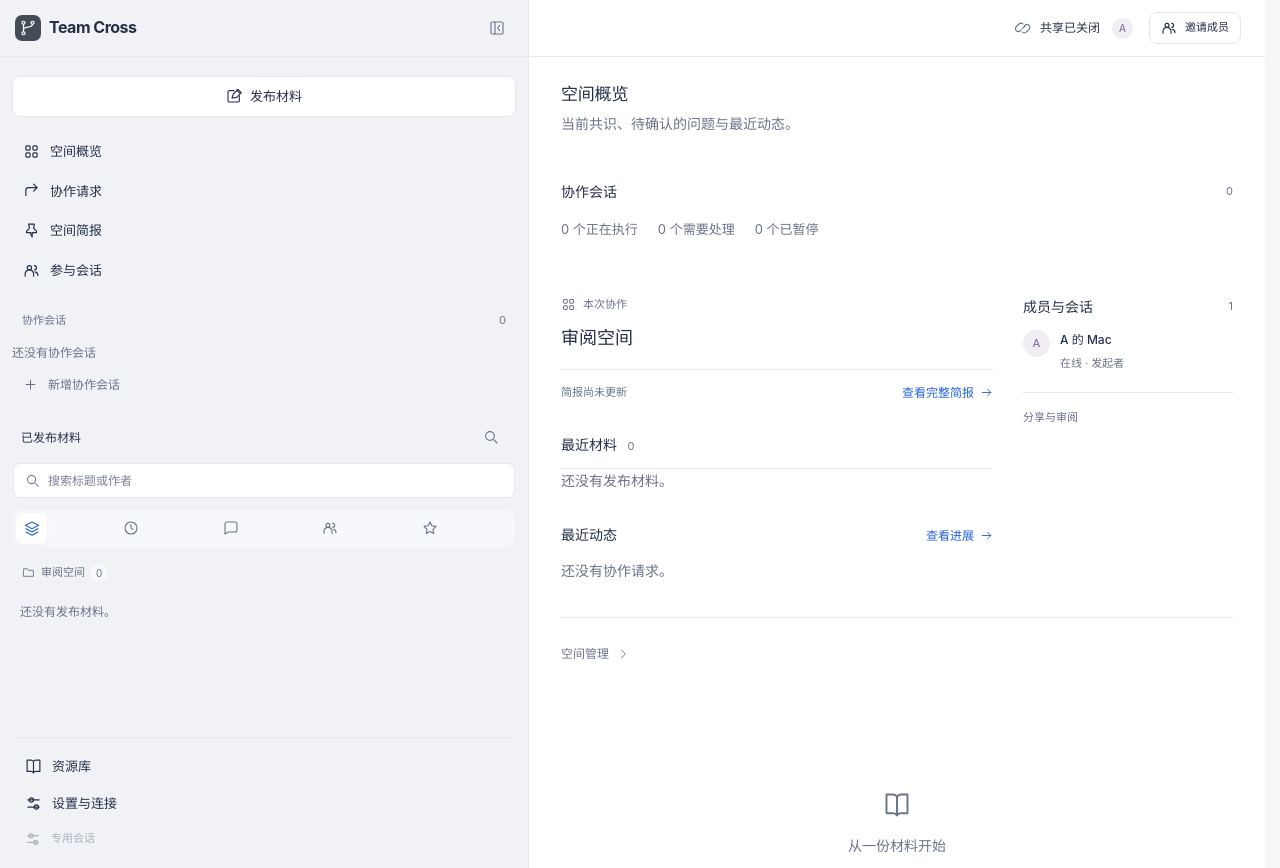
Test case: closes an empty read-only space, including sharing=false, and can reopen it
What coordinates should you click on to do the following:
click the tab "空间概览"
I would click on:
 (76, 151)
Its box is top-left (12, 133), bottom-right (516, 170).
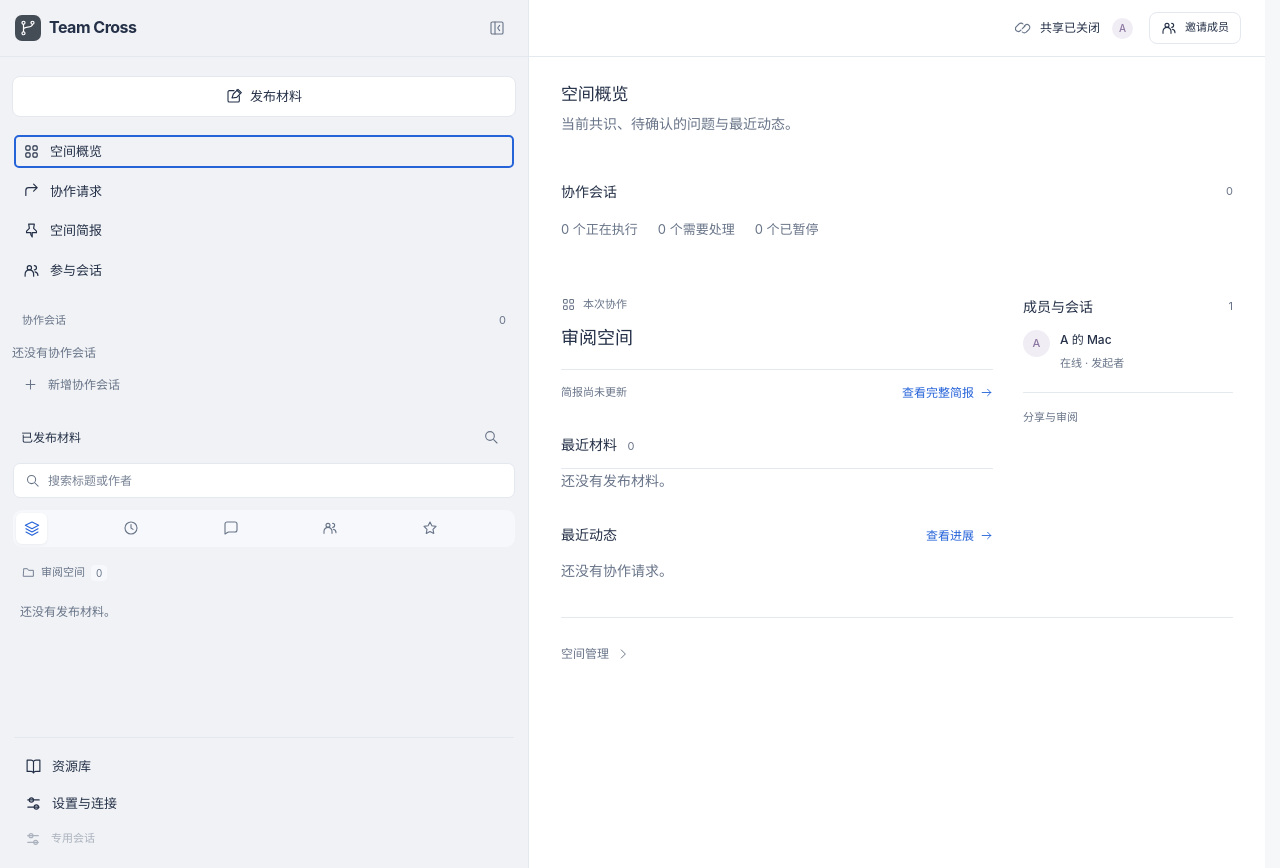
What coordinates should you click on to do the following:
click the heading "空间管理"
I would click on:
 (596, 654)
Its box is top-left (561, 646), bottom-right (630, 661).
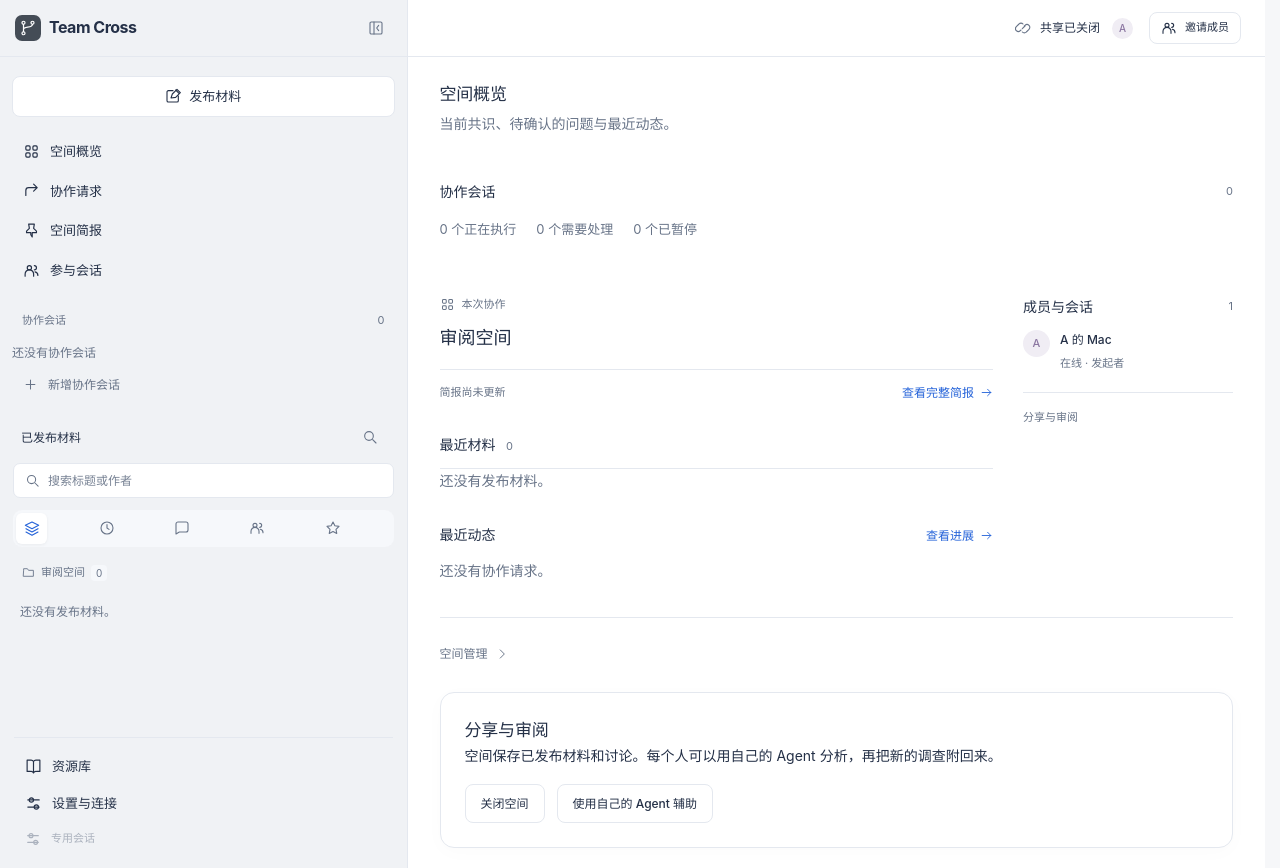
What coordinates should you click on to do the following:
click the button "关闭空间"
I would click on:
 (504, 804)
Its box is top-left (464, 784), bottom-right (544, 823).
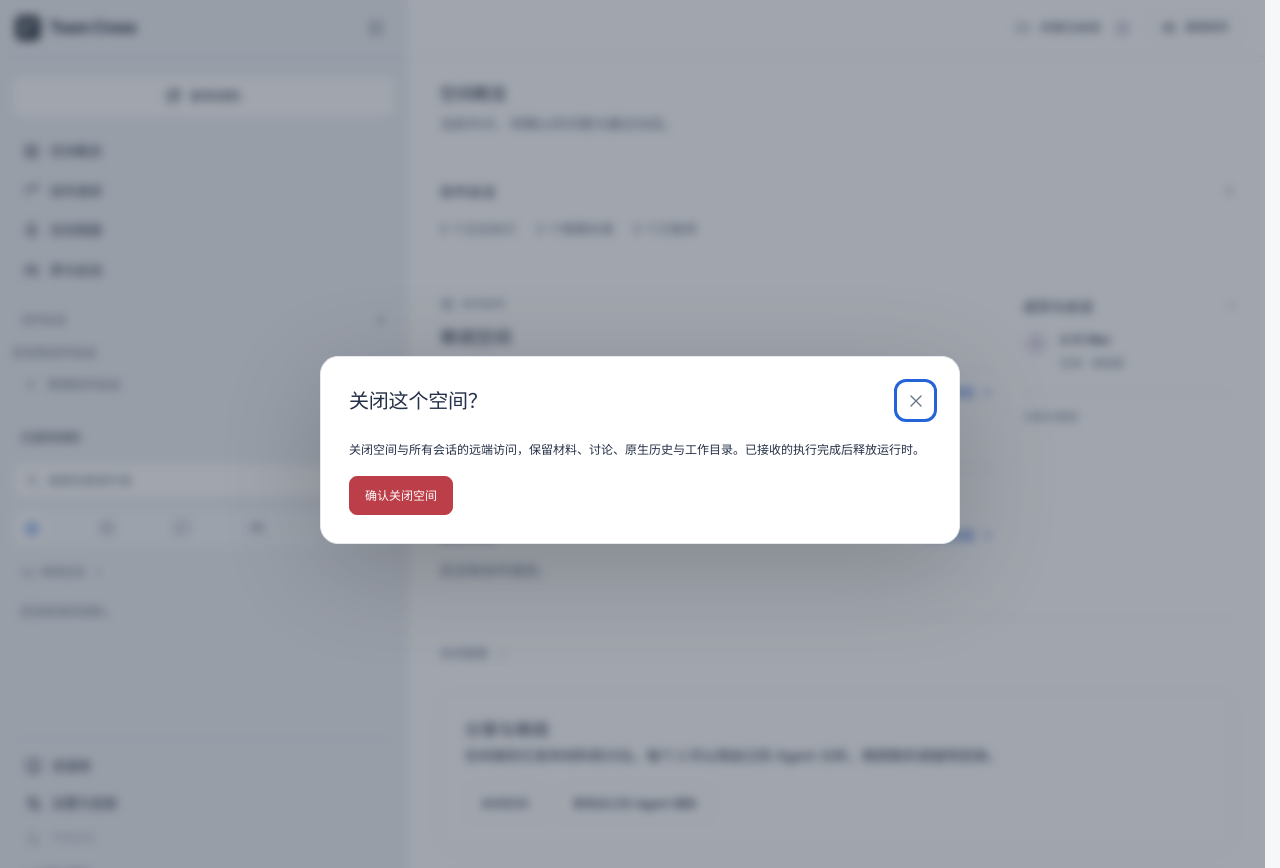
What coordinates should you click on to do the following:
click the button "确认关闭空间"
I would click on:
 (401, 496)
Its box is top-left (349, 476), bottom-right (453, 515).
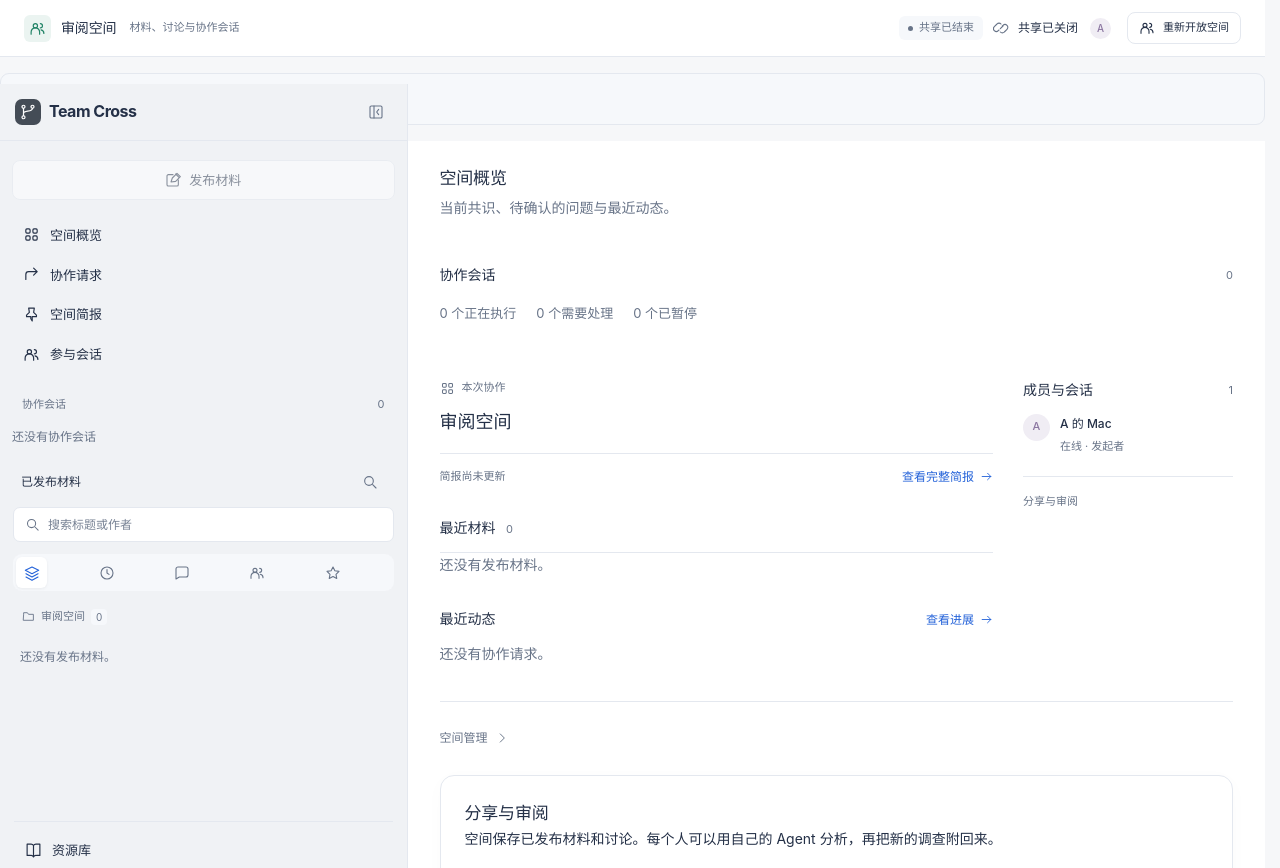
Now the text "空间已关闭。材料和讨论保留，重新开放后可以继续邀请同事。" is shown, box top-left (0, 73), bottom-right (1265, 125)
Now the button "关闭空间" is gone
What coordinates should you click on to do the following:
click the button "重新开放空间"
I would click on:
 (1184, 28)
Its box is top-left (1127, 12), bottom-right (1241, 44).
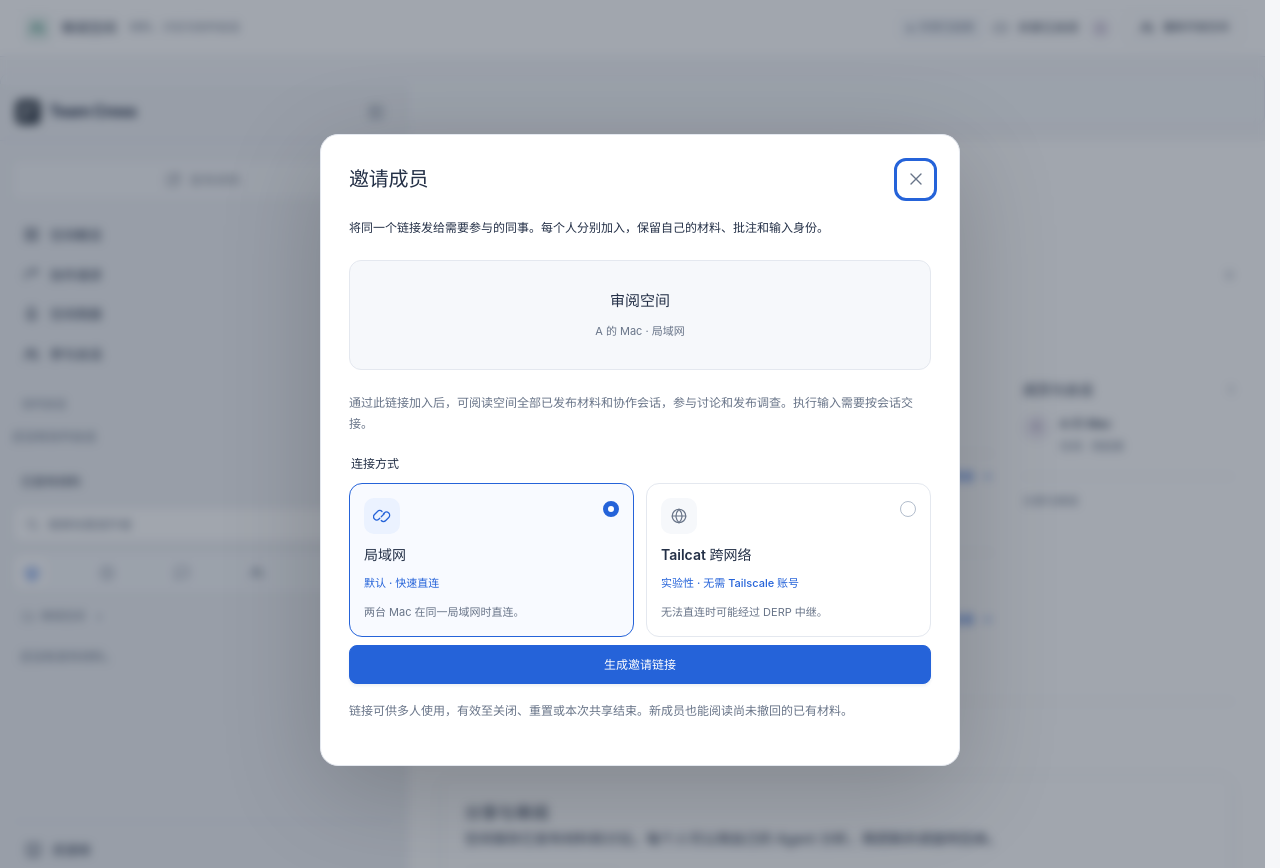
What coordinates should you click on to do the following:
click the button "生成邀请链接"
I would click on:
 (640, 664)
Its box is top-left (349, 645), bottom-right (931, 684).
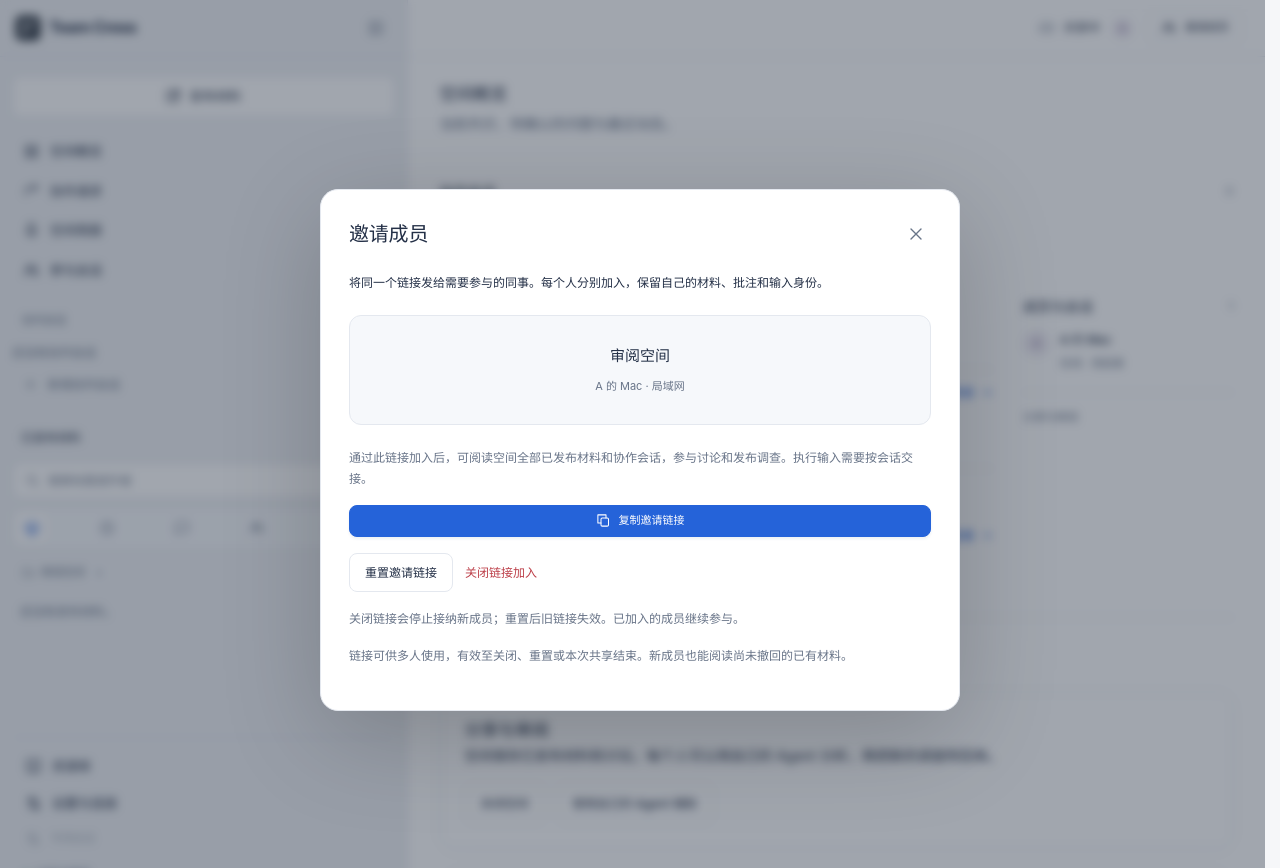
Now the button "复制邀请链接" is shown, box top-left (349, 505), bottom-right (931, 536)
Now the button "关闭空间" is shown, box top-left (464, 784), bottom-right (544, 823)
